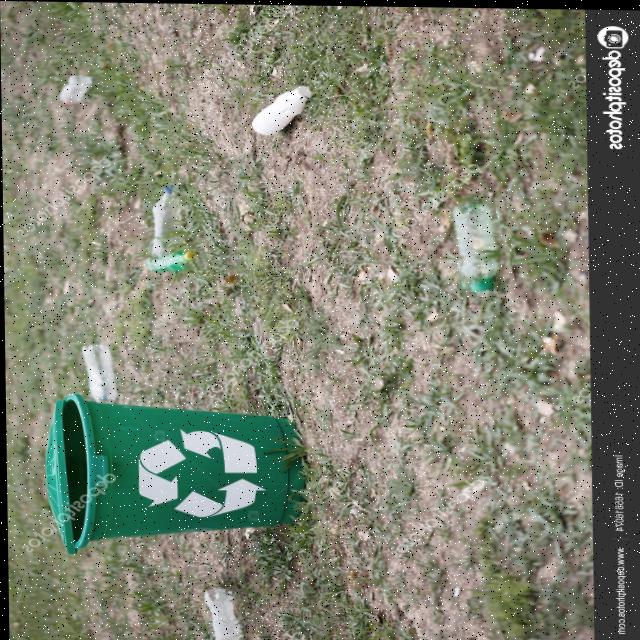litter: (450, 196, 511, 295), (142, 183, 206, 267), (196, 572, 243, 640), (54, 75, 102, 115)
